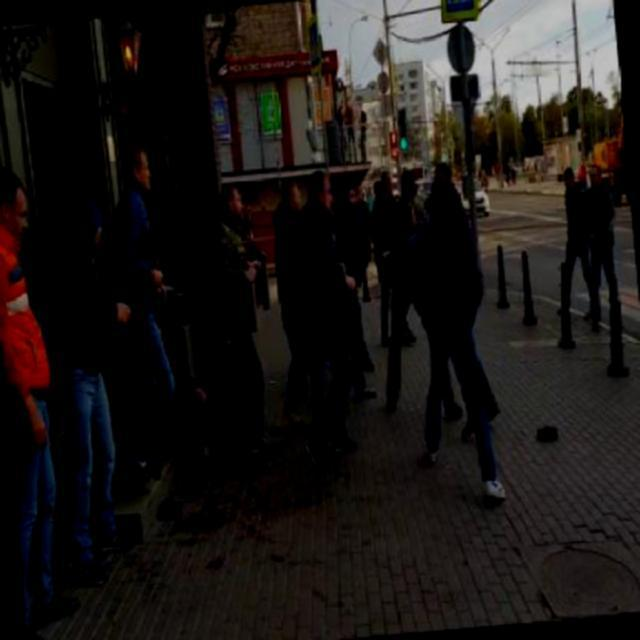non-fight: (48, 185, 140, 587), (162, 174, 281, 476), (0, 163, 75, 638), (104, 140, 184, 486), (266, 165, 328, 442)
